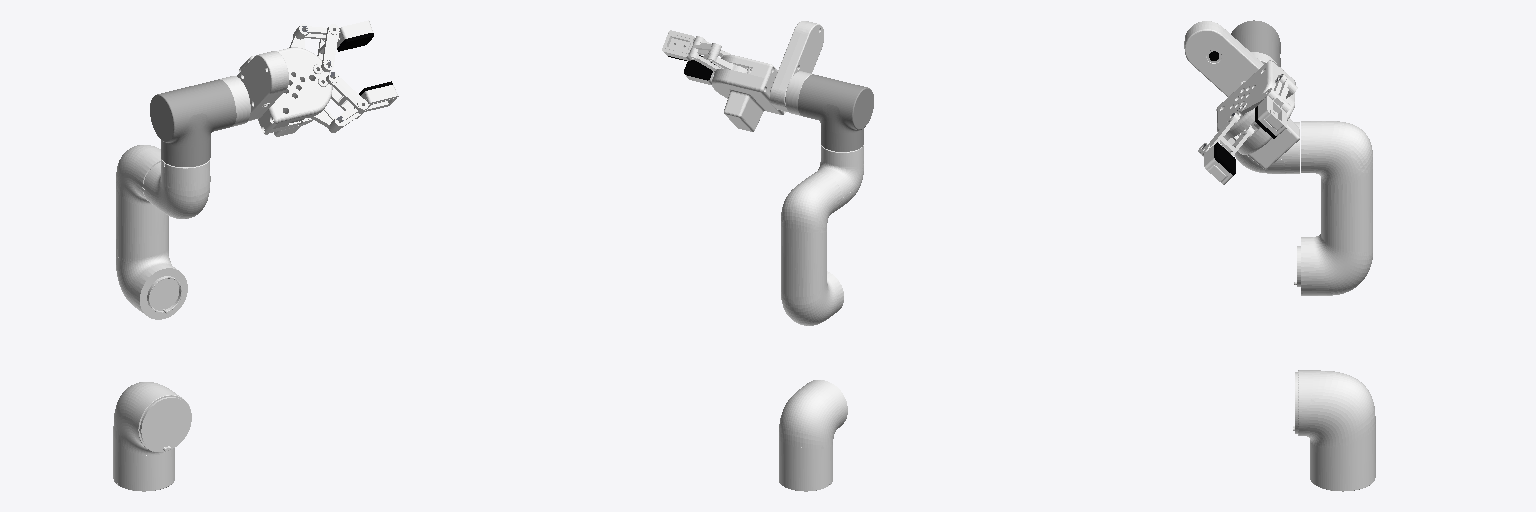
URDF robot description (mycobot_280_jn):
<?xml version="1.0"?>
<robot name="mycobot_280_jn">
  <link name="world"/>
  <joint name="world_to_g_base" type="fixed"><parent link="world"/><child link="g_base"/><origin xyz="0 0 0" rpy="0 0 0"/></joint>

  <link name="g_base">
    <visual>
      <geometry><mesh filename="package://positronic_description/urdf/mycobot_280_jn_sim/meshes/visual/g_base.dae"/></geometry>
    </visual>
    <collision>
      <geometry><mesh filename="package://positronic_description/urdf/mycobot_280_jn_sim/meshes/collision/g_base.stl"/></geometry>
    </collision>
    <inertial>
      <origin xyz="0.000004 0.000000 0.016000" rpy="0 0 0"/>
      <mass value="0.18415"/>
      <inertia ixx="3.5748e-04" ixy="5.8017e-10" ixz="1.5028e-14" iyy="1.9952e-04" iyz="-4.0912e-09" izz="5.2559e-04"/>
    </inertial>
  </link>
  <joint name="g_base_to_joint1" type="fixed"><parent link="g_base"/><child link="joint1"/><origin xyz="0 0 0.0320" rpy="0 0 0"/></joint>

  <link name="joint1">
    <visual>
      <geometry><mesh filename="package://positronic_description/urdf/mycobot_280_jn_sim/meshes/visual/joint1.dae"/></geometry>
    </visual>
    <collision>
      <geometry><mesh filename="package://positronic_description/urdf/mycobot_280_jn_sim/meshes/collision/joint1.stl"/></geometry>
    </collision>
    <inertial>
      <origin xyz="-0.000007 -0.000080 0.049738" rpy="0 0 0"/>
      <mass value="0.50875"/>
      <inertia ixx="1.2317e-03" ixy="6.9182e-09" ixz="-6.2406e-08" iyy="9.2410e-04" iyz="1.1339e-06" izz="1.1863e-03"/>
    </inertial>
  </link>
  <link name="joint2">
    <visual>
      <geometry><mesh filename="package://positronic_description/urdf/mycobot_280_jn_sim/meshes/visual/joint2.dae"/></geometry>
    </visual>
    <collision>
      <geometry><mesh filename="package://positronic_description/urdf/mycobot_280_jn_sim/meshes/collision/joint2.stl"/></geometry>
    </collision>
    <inertial>
      <origin xyz="-0.000000 -0.006642 -0.021543" rpy="0 0 0"/>
      <mass value="0.06376"/>
      <inertia ixx="4.6518e-05" ixy="-1.4217e-10" ixz="4.0220e-11" iyy="4.1988e-05" iyz="5.2079e-06" izz="2.3962e-05"/>
    </inertial>
  </link>
  <link name="joint3">
    <visual>
      <geometry><mesh filename="package://positronic_description/urdf/mycobot_280_jn_sim/meshes/visual/joint3.dae"/></geometry>
    </visual>
    <collision>
      <geometry><mesh filename="package://positronic_description/urdf/mycobot_280_jn_sim/meshes/collision/joint3.stl"/></geometry>
    </collision>
    <inertial>
      <origin xyz="-0.054329 -0.000001 0.055329" rpy="0 0 0"/>
      <mass value="0.11283"/>
      <inertia ixx="4.0982e-05" ixy="-4.4556e-09" ixz="-7.0957e-07" iyy="2.1152e-04" iyz="-8.7142e-10" izz="2.0504e-04"/>
    </inertial>
  </link>
  <link name="joint4">
    <visual>
      <geometry><mesh filename="package://positronic_description/urdf/mycobot_280_jn_sim/meshes/visual/joint4.dae"/></geometry>
    </visual>
    <collision>
      <geometry><mesh filename="package://positronic_description/urdf/mycobot_280_jn_sim/meshes/collision/joint4.stl"/></geometry>
    </collision>
    <inertial>
      <origin xyz="-0.045854 0.000000 0.007555" rpy="0 0 0"/>
      <mass value="0.08998"/>
      <inertia ixx="3.0322e-05" ixy="2.4186e-09" ixz="-2.9578e-06" iyy="1.3482e-04" iyz="1.3086e-09" izz="1.2647e-04"/>
    </inertial>
  </link>
  <link name="joint5">
    <visual>
      <geometry><mesh filename="package://positronic_description/urdf/mycobot_280_jn_sim/meshes/visual/joint5.dae"/></geometry>
    </visual>
    <collision>
      <geometry><mesh filename="package://positronic_description/urdf/mycobot_280_jn_sim/meshes/collision/joint5.stl"/></geometry>
    </collision>
    <inertial>
      <origin xyz="0.000001 -0.009519 -0.008481" rpy="0 0 0"/>
      <mass value="0.02887"/>
      <inertia ixx="1.1107e-05" ixy="2.2157e-10" ixz="1.0327e-10" iyy="8.0087e-06" iyz="1.5831e-06" izz="8.7282e-06"/>
    </inertial>
  </link>
  <link name="joint6">
    <visual>
      <geometry><mesh filename="package://positronic_description/urdf/mycobot_280_jn_sim/meshes/visual/joint6.dae"/></geometry>
    </visual>
    <collision>
      <geometry><mesh filename="package://positronic_description/urdf/mycobot_280_jn_sim/meshes/collision/joint6.stl"/></geometry>
    </collision>
    <inertial>
      <origin xyz="-0.000000 0.005619 -0.009142" rpy="0 0 0"/>
      <mass value="0.03611"/>
      <inertia ixx="1.6575e-05" ixy="1.3007e-11" ixz="9.1115e-11" iyy="1.1852e-05" iyz="-8.2298e-07" izz="1.2374e-05"/>
    </inertial>
  </link>
  <link name="joint6_flange">
    <visual>
      <geometry><mesh filename="package://positronic_description/urdf/mycobot_280_jn_sim/meshes/visual/joint6_flange.dae"/></geometry>
    </visual>
    <collision>
      <geometry><mesh filename="package://positronic_description/urdf/mycobot_280_jn_sim/meshes/collision/joint6_flange.stl"/></geometry>
    </collision>
    <inertial>
      <origin xyz="-0.000000 -0.000000 -0.005150" rpy="0 0 0"/>
      <mass value="0.00556"/>
      <inertia ixx="5.9851e-07" ixy="-5.1008e-24" ixz="1.4442e-24" iyy="5.9851e-07" iyz="-7.4388e-16" izz="1.0234e-06"/>
    </inertial>
  </link>
  <joint name="joint2_to_joint1" type="revolute">
    <parent link="joint1"/><child link="joint2"/>
    <origin xyz="0 0 0.15756" rpy="0 0 0"/>
    <axis xyz="0 0 1"/>
    <limit effort="10.0" lower="-2.9321" upper="2.9321" velocity="2.618"/>
    <dynamics damping="0.1" friction="0.01"/>
  </joint>
  <joint name="joint3_to_joint2" type="revolute">
    <parent link="joint2"/><child link="joint3"/>
    <origin xyz="0 0 -0.001" rpy="0 1.5708 -1.5708"/>
    <axis xyz="0 0 1"/>
    <limit effort="10.0" lower="-2.4434" upper="2.4434" velocity="2.618"/>
    <dynamics damping="0.1" friction="0.01"/>
  </joint>
  <joint name="joint4_to_joint3" type="revolute">
    <parent link="joint3"/><child link="joint4"/>
    <origin xyz="-0.1104 0 0" rpy="0 0 0"/>
    <axis xyz="0 0 1"/>
    <limit effort="10.0" lower="-2.6179" upper="2.6179" velocity="2.618"/>
    <dynamics damping="0.1" friction="0.01"/>
  </joint>
  <joint name="joint5_to_joint4" type="revolute">
    <parent link="joint4"/><child link="joint5"/>
    <origin xyz="-0.096 0 0.06462" rpy="0 0 -1.5708"/>
    <axis xyz="0 0 1"/>
    <limit effort="10.0" lower="-2.6179" upper="2.6179" velocity="2.618"/>
    <dynamics damping="0.1" friction="0.01"/>
  </joint>
  <joint name="joint6_to_joint5" type="revolute">
    <parent link="joint5"/><child link="joint6"/>
    <origin xyz="0 -0.07318 0" rpy="1.5708 -1.5708 0"/>
    <axis xyz="0 0 1"/>
    <limit effort="10.0" lower="-2.7052" upper="2.7925" velocity="2.618"/>
    <dynamics damping="0.1" friction="0.01"/>
  </joint>
  <joint name="joint6output_to_joint6" type="revolute">
    <parent link="joint6"/><child link="joint6_flange"/>
    <origin xyz="0 0.0456 0" rpy="-1.5708 0.7854 0"/>
    <axis xyz="0 0 1"/>
    <limit effort="10.0" lower="-3.14159" upper="3.14159" velocity="2.618"/>
    <dynamics damping="0.1" friction="0.01"/>
  </joint>
  <joint name="joint6output_to_gripper_base" type="fixed">
    <parent link="joint6_flange"/><child link="gripper_base"/>
    <!-- Mounted as on the real arm (checked 2026-10-28): turned 180 deg on the flange, with the
         camera module at 90 deg from the finger line. The sign is to be confirmed with the
         gripper mounted and joint 6 at zero. -->
    <origin xyz="0 0 0.0505" rpy="1.5708 0 3.1416"/>
  </joint>
  <link name="gripper_base">
    <visual>
      <geometry><mesh filename="package://positronic_description/urdf/mycobot_280_jn_sim/meshes/visual/gripper_base.dae"/></geometry>
    </visual>
    <collision>
      <geometry><mesh filename="package://positronic_description/urdf/mycobot_280_jn_sim/meshes/collision/gripper_base.stl"/></geometry>
    </collision>
    <inertial>
      <origin xyz="-0.001001 -0.003635 0.008093" rpy="0 0 0"/>
      <mass value="0.07782"/>
      <inertia ixx="3.0829e-05" ixy="5.8945e-08" ixz="1.4872e-06" iyy="3.0356e-05" iyz="-2.3616e-07" izz="3.6504e-05"/>
    </inertial>
  </link>
  <link name="gripper_left1">
    <visual>
      <geometry><mesh filename="package://positronic_description/urdf/mycobot_280_jn_sim/meshes/visual/gripper_left1.dae"/></geometry>
    </visual>
    <collision>
      <geometry><mesh filename="package://positronic_description/urdf/mycobot_280_jn_sim/meshes/collision/gripper_left1.stl"/></geometry>
    </collision>
    <inertial>
      <origin xyz="0.008214 0.028640 -0.008200" rpy="0 0 0"/>
      <mass value="0.00900"/>
      <inertia ixx="2.1380e-06" ixy="-4.4640e-07" ixz="-5.0431e-18" iyy="5.4470e-07" iyz="1.1387e-17" izz="2.1781e-06"/>
    </inertial>
  </link>
  <link name="gripper_left2">
    <visual>
      <geometry><mesh filename="package://positronic_description/urdf/mycobot_280_jn_sim/meshes/visual/gripper_left2.dae"/></geometry>
    </visual>
    <collision>
      <geometry><mesh filename="package://positronic_description/urdf/mycobot_280_jn_sim/meshes/collision/gripper_left2.stl"/></geometry>
    </collision>
    <inertial>
      <origin xyz="-0.014480 0.007475 -0.008200" rpy="0 0 0"/>
      <mass value="0.00420"/>
      <inertia ixx="2.8523e-07" ixy="2.0839e-07" ixz="3.8170e-22" iyy="5.3324e-07" iyz="-1.9085e-22" izz="5.3908e-07"/>
    </inertial>
  </link>
  <link name="gripper_left3">
    <visual>
      <geometry><mesh filename="package://positronic_description/urdf/mycobot_280_jn_sim/meshes/visual/gripper_left3.dae"/></geometry>
    </visual>
    <collision>
      <geometry><mesh filename="package://positronic_description/urdf/mycobot_280_jn_sim/meshes/collision/gripper_left3.stl"/></geometry>
    </collision>
    <inertial>
      <origin xyz="-0.007273 0.003393 -0.000700" rpy="0 0 0"/>
      <mass value="0.00288"/>
      <inertia ixx="2.0033e-07" ixy="1.2707e-07" ixz="3.3597e-22" iyy="3.5146e-07" iyz="-2.0178e-22" izz="5.3980e-07"/>
    </inertial>
  </link>
  <link name="gripper_right1">
    <visual>
      <geometry><mesh filename="package://positronic_description/urdf/mycobot_280_jn_sim/meshes/visual/gripper_right1.dae"/></geometry>
    </visual>
    <collision>
      <geometry><mesh filename="package://positronic_description/urdf/mycobot_280_jn_sim/meshes/collision/gripper_right1.stl"/></geometry>
    </collision>
    <inertial>
      <origin xyz="-0.009429 0.029012 -0.008200" rpy="0 0 0"/>
      <mass value="0.00900"/>
      <inertia ixx="2.1380e-06" ixy="4.4639e-07" ixz="-5.0440e-18" iyy="5.4470e-07" iyz="-1.1388e-17" izz="2.1781e-06"/>
    </inertial>
  </link>
  <link name="gripper_right2">
    <visual>
      <geometry><mesh filename="package://positronic_description/urdf/mycobot_280_jn_sim/meshes/visual/gripper_right2.dae"/></geometry>
    </visual>
    <collision>
      <geometry><mesh filename="package://positronic_description/urdf/mycobot_280_jn_sim/meshes/collision/gripper_right2.stl"/></geometry>
    </collision>
    <inertial>
      <origin xyz="0.013373 0.007661 -0.008200" rpy="0 0 0"/>
      <mass value="0.00420"/>
      <inertia ixx="2.9105e-07" ixy="-2.1175e-07" ixz="-4.4531e-22" iyy="5.2741e-07" iyz="3.1809e-23" izz="5.3908e-07"/>
    </inertial>
  </link>
  <link name="gripper_right3">
    <visual>
      <geometry><mesh filename="package://positronic_description/urdf/mycobot_280_jn_sim/meshes/visual/gripper_right3.dae"/></geometry>
    </visual>
    <collision>
      <geometry><mesh filename="package://positronic_description/urdf/mycobot_280_jn_sim/meshes/collision/gripper_right3.stl"/></geometry>
    </collision>
    <inertial>
      <origin xyz="0.006227 0.003481 -0.000700" rpy="0 0 0"/>
      <mass value="0.00288"/>
      <inertia ixx="2.0380e-07" ixy="-1.2918e-07" ixz="-2.1471e-22" iyy="3.4785e-07" iyz="-1.6600e-22" izz="5.3966e-07"/>
    </inertial>
  </link>
  <joint name="gripper_controller" type="revolute">
    <parent link="gripper_base"/><child link="gripper_left3"/>
    <origin xyz="-0.012 0.005 0" rpy="0 0 0"/>
    <axis xyz="0 0 1"/>
    <limit effort="10.0" lower="-0.74" upper="0.15" velocity="1.0"/>
    <dynamics damping="0.1" friction="0.01"/>
  </joint>
  <joint name="gripper_base_to_gripper_left2" type="revolute">
    <parent link="gripper_base"/><child link="gripper_left2"/>
    <origin xyz="-0.005 0.027 0" rpy="0 0 0"/>
    <axis xyz="0 0 1"/>
    <limit effort="10.0" lower="-0.8" upper="0.5" velocity="1.0"/>
    <dynamics damping="0.1" friction="0.01"/>
    <mimic joint="gripper_controller" multiplier="1.0" offset="0"/>
  </joint>
  <joint name="gripper_left3_to_gripper_left1" type="revolute">
    <parent link="gripper_left3"/><child link="gripper_left1"/>
    <origin xyz="-0.027 0.016 0" rpy="0 0 0"/>
    <axis xyz="0 0 1"/>
    <limit effort="10.0" lower="-0.5" upper="0.8" velocity="1.0"/>
    <dynamics damping="0.1" friction="0.01"/>
    <mimic joint="gripper_controller" multiplier="-1.0" offset="0"/>
  </joint>
  <joint name="gripper_base_to_gripper_right3" type="revolute">
    <parent link="gripper_base"/><child link="gripper_right3"/>
    <origin xyz="0.012 0.005 0" rpy="0 0 0"/>
    <axis xyz="0 0 1"/>
    <limit effort="10.0" lower="-0.15" upper="0.8" velocity="1.0"/>
    <dynamics damping="0.1" friction="0.01"/>
    <mimic joint="gripper_controller" multiplier="-1.0" offset="0"/>
  </joint>
  <joint name="gripper_base_to_gripper_right2" type="revolute">
    <parent link="gripper_base"/><child link="gripper_right2"/>
    <origin xyz="0.005 0.027 0" rpy="0 0 0"/>
    <axis xyz="0 0 1"/>
    <limit effort="10.0" lower="-0.5" upper="0.8" velocity="1.0"/>
    <dynamics damping="0.1" friction="0.01"/>
    <mimic joint="gripper_controller" multiplier="-1.0" offset="0"/>
  </joint>
  <joint name="gripper_right3_to_gripper_right1" type="revolute">
    <parent link="gripper_right3"/><child link="gripper_right1"/>
    <origin xyz="0.027 0.016 0" rpy="0 0 0"/>
    <axis xyz="0 0 1"/>
    <limit effort="10.0" lower="-0.8" upper="0.5" velocity="1.0"/>
    <dynamics damping="0.1" friction="0.01"/>
    <mimic joint="gripper_controller" multiplier="1.0" offset="0"/>
  </joint>
  <joint name="joint6output_to_camera_flange" type="fixed">
    <parent link="joint6_flange"/><child link="camera_flange"/>
    <origin xyz="0 0 0.01" rpy="1.5708 0 -1.5708"/>
  </joint>
  <link name="camera_flange">
    <visual>
      <geometry><mesh filename="package://positronic_description/urdf/mycobot_280_jn_sim/meshes/visual/camera_flange.dae"/></geometry>
    </visual>
    <collision>
      <geometry><mesh filename="package://positronic_description/urdf/mycobot_280_jn_sim/meshes/collision/camera_flange.stl"/></geometry>
    </collision>
    <inertial>
      <origin xyz="0.023130 0.000000 -0.000136" rpy="0 0 0"/>
      <mass value="0.03000"/>
      <inertia ixx="3.1836e-06" ixy="2.6569e-11" ixz="-3.1215e-09" iyy="1.7767e-05" iyz="4.1651e-11" izz="1.5849e-05"/>
    </inertial>
  </link>

  <link name="camera_link"/>
  <joint name="camera_flange_to_camera_link" type="fixed">
    <parent link="camera_flange"/><child link="camera_link"/>
    <!-- The roll about the optical axis puts the fingers at the bottom of the image. -->
    <origin xyz="0.0415 0.0083 0.0000" rpy="1.5708 0 1.5708"/>
  </joint>
  <gazebo reference="camera_link">
    <sensor name="wrist_camera" type="camera">
      <always_on>1</always_on><update_rate>30</update_rate><visualize>true</visualize>
      <topic>wrist_camera/image_raw</topic>
      <camera>
        <horizontal_fov>1.047</horizontal_fov>
        <image><width>640</width><height>480</height><format>R8G8B8</format></image>
        <clip><near>0.02</near><far>5.0</far></clip>
      </camera>
    </sensor>
  </gazebo>

  <gazebo reference="joint2"><turnGravityOff>true</turnGravityOff></gazebo>
  <gazebo reference="joint3"><turnGravityOff>true</turnGravityOff></gazebo>
  <gazebo reference="joint4"><turnGravityOff>true</turnGravityOff></gazebo>
  <gazebo reference="joint5"><turnGravityOff>true</turnGravityOff></gazebo>
  <gazebo reference="joint6"><turnGravityOff>true</turnGravityOff></gazebo>
  <gazebo reference="joint6_flange"><turnGravityOff>true</turnGravityOff></gazebo>
  <gazebo reference="gripper_base"><turnGravityOff>true</turnGravityOff></gazebo>
  <gazebo reference="gripper_left1"><turnGravityOff>true</turnGravityOff></gazebo>
  <gazebo reference="gripper_left2"><turnGravityOff>true</turnGravityOff></gazebo>
  <gazebo reference="gripper_left3"><turnGravityOff>true</turnGravityOff></gazebo>
  <gazebo reference="gripper_right1"><turnGravityOff>true</turnGravityOff></gazebo>
  <gazebo reference="gripper_right2"><turnGravityOff>true</turnGravityOff></gazebo>
  <gazebo reference="gripper_right3"><turnGravityOff>true</turnGravityOff></gazebo>
  <gazebo reference="camera_flange"><turnGravityOff>true</turnGravityOff></gazebo>
</robot>

--- Facts derived from the render (not from the file) ---
The picture shows the robot from 3 angles, left to right: view 1: azimuth 30°, elevation 25°; view 2: azimuth 150°, elevation 25°; view 3: azimuth 270°, elevation 25°; orthographic projection.
Model mycobot_280_jn with 18 links and 17 joints (12 revolute, 5 fixed), rooted at world, posed all joints at 0.
Links seen in each view (by area): view 1: joint4, joint2, joint6, gripper_base, joint5, camera_flange, gripper_right1, gripper_left1, gripper_left2, joint6_flange, gripper_right2; view 2: joint4, joint2, joint6, gripper_base, camera_flange, joint5, gripper_right1, joint6_flange; view 3: joint4, joint2, gripper_base, camera_flange, gripper_right1, joint6, joint5, gripper_left1, gripper_left2.
Link boxes in pixels (x1,y1,x2,y2): joint4: [116, 145, 187, 319]; joint2: [113, 382, 191, 491]; joint6: [150, 79, 236, 166]; gripper_base: [239, 47, 332, 136]; joint5: [143, 159, 210, 218]; camera_flange: [237, 51, 288, 120]; gripper_right1: [295, 20, 373, 51]; gripper_left1: [330, 81, 398, 130]; gripper_left2: [326, 72, 368, 118]; joint6_flange: [220, 76, 250, 126]; gripper_right2: [317, 24, 339, 71]; joint4: [781, 173, 843, 325]; joint2: [779, 380, 847, 491]; joint6: [798, 74, 873, 151]; gripper_base: [712, 55, 785, 131]; camera_flange: [770, 21, 823, 111]; joint5: [814, 145, 863, 210]; gripper_right1: [662, 30, 721, 61]; joint6_flange: [785, 71, 814, 115]; joint4: [1294, 121, 1372, 295]; joint2: [1293, 370, 1375, 491]; gripper_base: [1216, 60, 1299, 169]; camera_flange: [1184, 21, 1263, 96]; gripper_right1: [1255, 74, 1292, 138]; joint6: [1231, 20, 1280, 66]; joint5: [1234, 122, 1299, 173]; gripper_left1: [1198, 142, 1235, 184]; gripper_left2: [1201, 112, 1254, 155].
Size in the robot's own frame: 0.1947 by 0.1397 by 0.3938 metres.
13 mesh visuals loaded from 16 distinct referenced files (13 Collada DAE); not drawn: 3 (reference not matched to a file when rendering).
